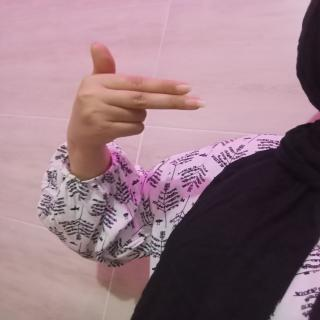GHAYN: (54, 35, 207, 156)
